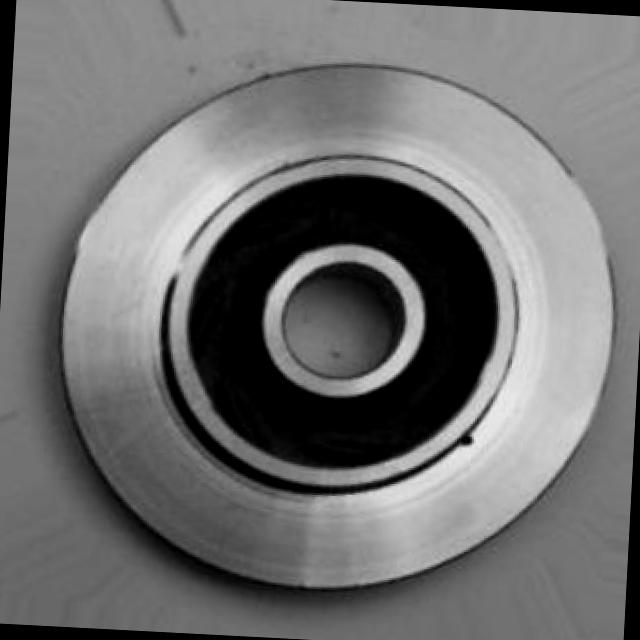Defect: (453, 432, 482, 456)
